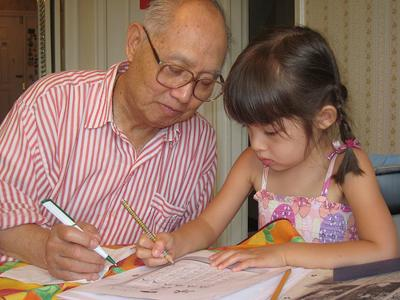person: (135, 26, 400, 271)
